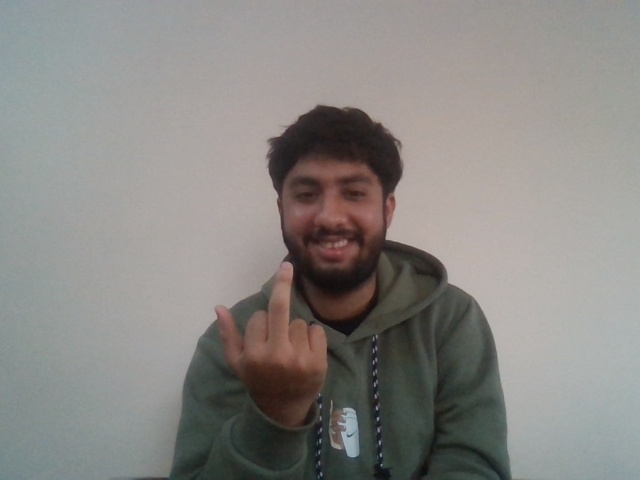Hello: (206, 255, 331, 411)
